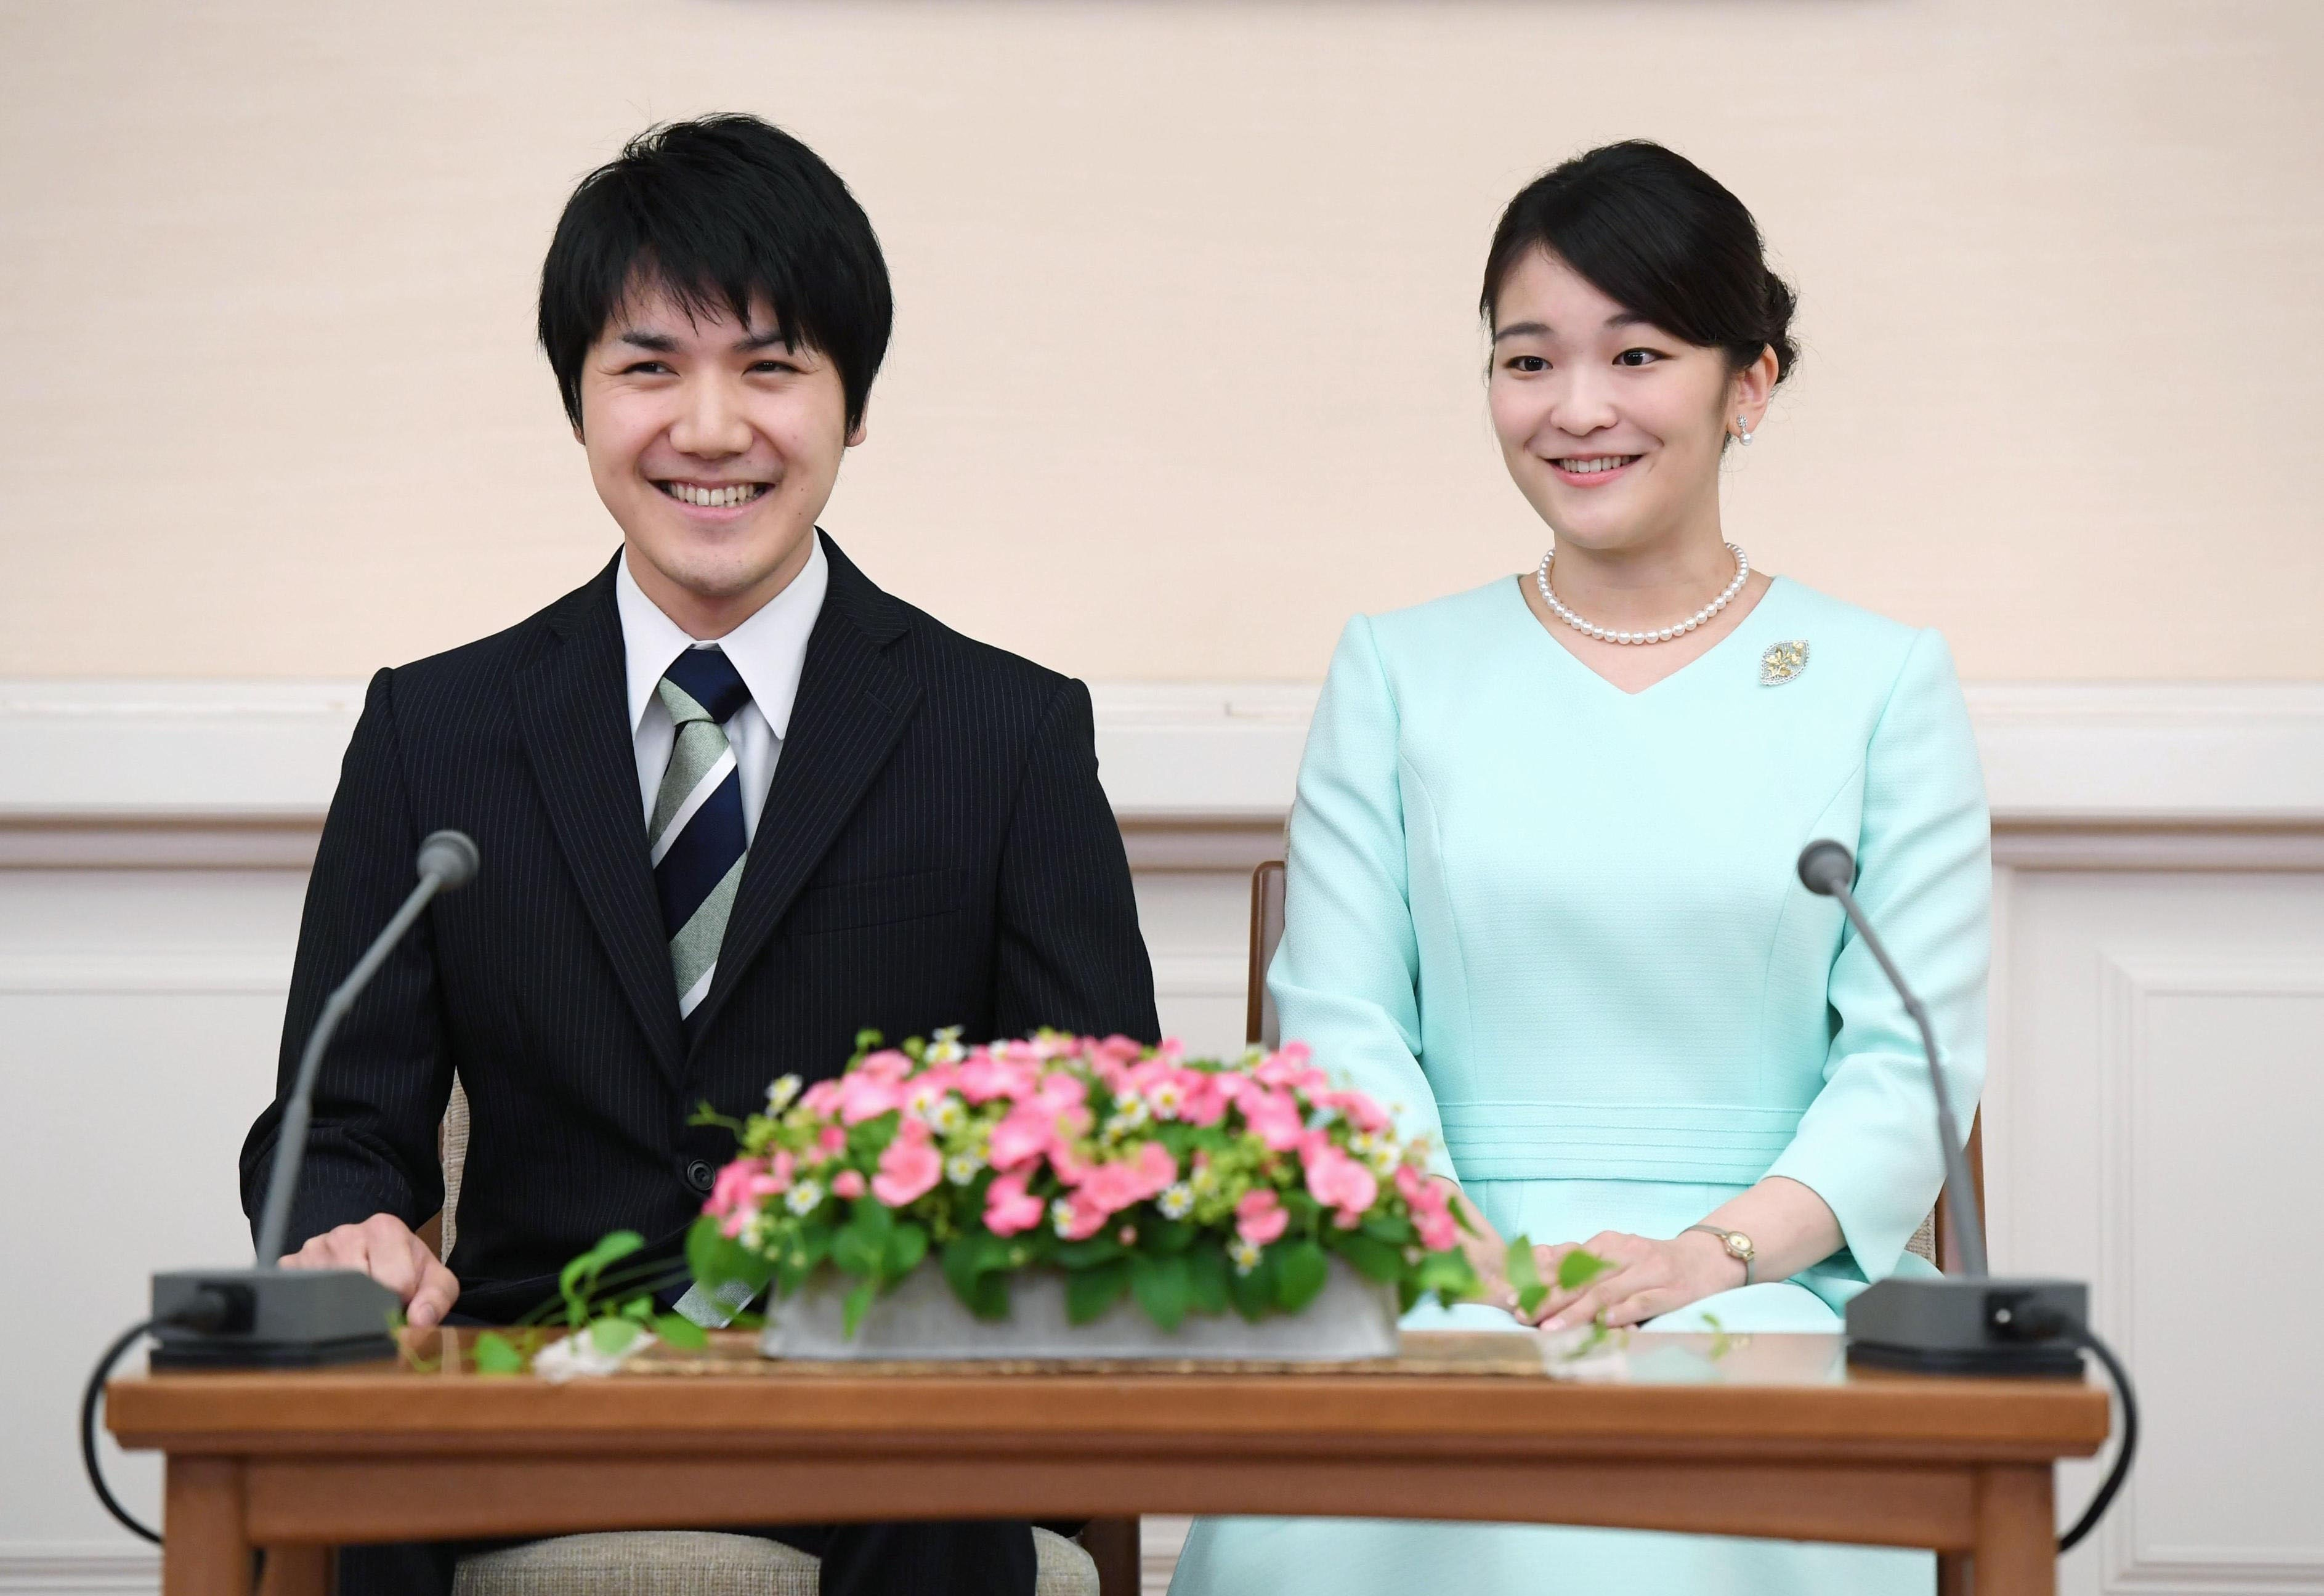face_no_mask: (536, 120, 889, 585), (1478, 139, 1796, 554)
